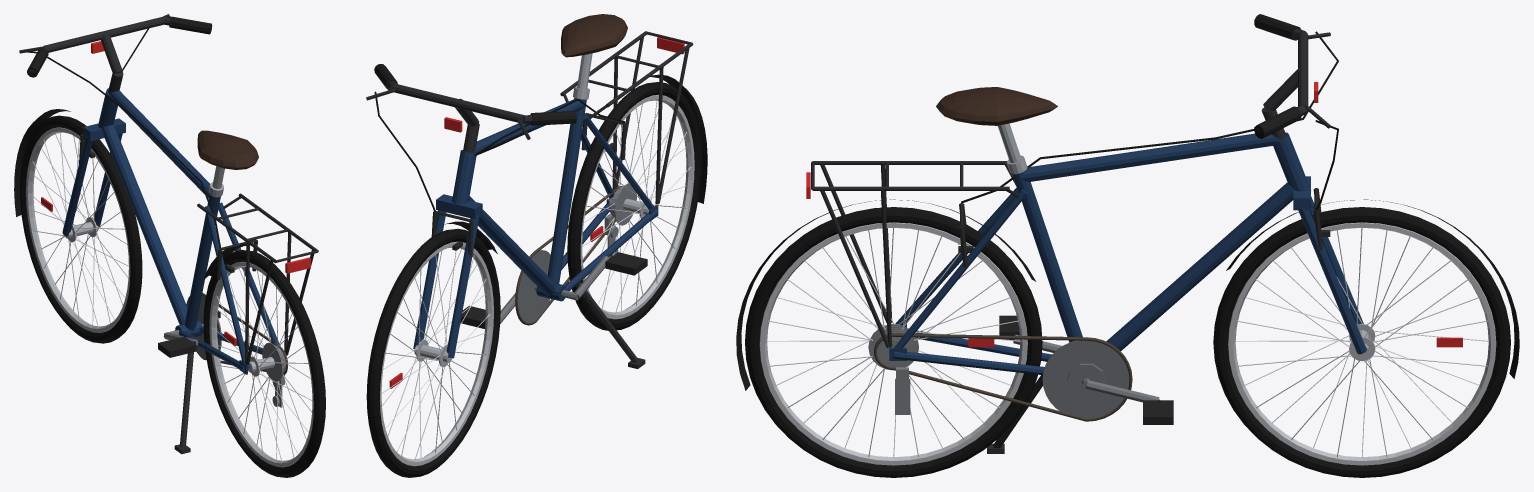
Rendered from velo-de-ville-realiste.glb.
3 views of the same model, side by side, from view 1: azimuth 30°, elevation 25°; view 2: azimuth 150°, elevation 25°; view 3: azimuth 270°, elevation 25° (orthographic). The views are drawn at different scales.
Visible parts, largest first — view 1: velo-de-ville-realiste, Roue_arriere, Roue_avant, Direction_Fourche_Guidon, Pedale_gauche, Pedalier; view 2: velo-de-ville-realiste, Roue_avant, Roue_arriere, Direction_Fourche_Guidon, Pedalier, Pedale_gauche, Pedale_droite; view 3: velo-de-ville-realiste, Roue_avant, Roue_arriere, Direction_Fourche_Guidon, Pedalier.
Part boxes in pixels (x1,y1,x2,y2): velo-de-ville-realiste: (27,51,318,454); Roue_arriere: (203,250,325,477); Roue_avant: (20,115,142,343); Direction_Fourche_Guidon: (14,14,212,235); Pedale_gauche: (158,336,196,357); Pedalier: (163,295,221,357); velo-de-ville-realiste: (452,14,707,368); Roue_avant: (366,228,500,477); Roue_arriere: (567,82,701,330); Direction_Fourche_Guidon: (366,64,576,358); Pedalier: (500,250,609,323); Pedale_gauche: (605,252,647,275); Pedale_droite: (460,305,485,328); velo-de-ville-realiste: (736,31,1338,453); Roue_avant: (1213,207,1510,477); Roue_arriere: (745,207,1042,477); Direction_Fourche_Guidon: (1226,14,1519,378); Pedalier: (1013,334,1159,418).
Bounding box in the file's own units: 0.624 × 1.03 × 1.79.
